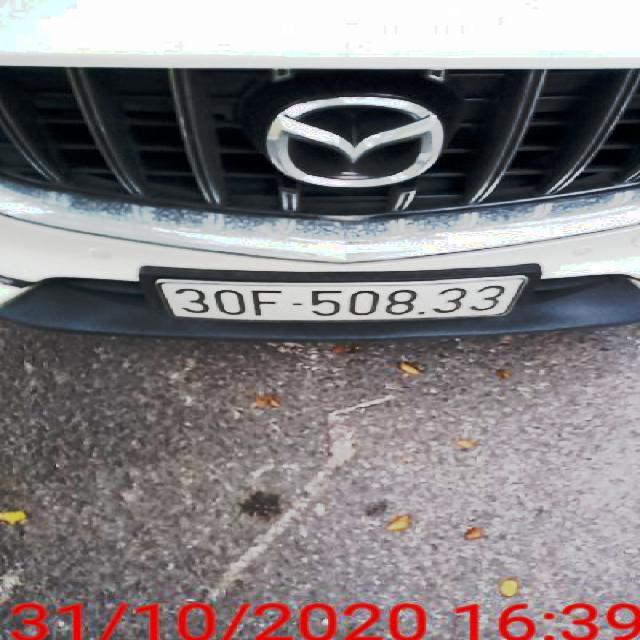license_plate: (158, 279, 529, 318)
